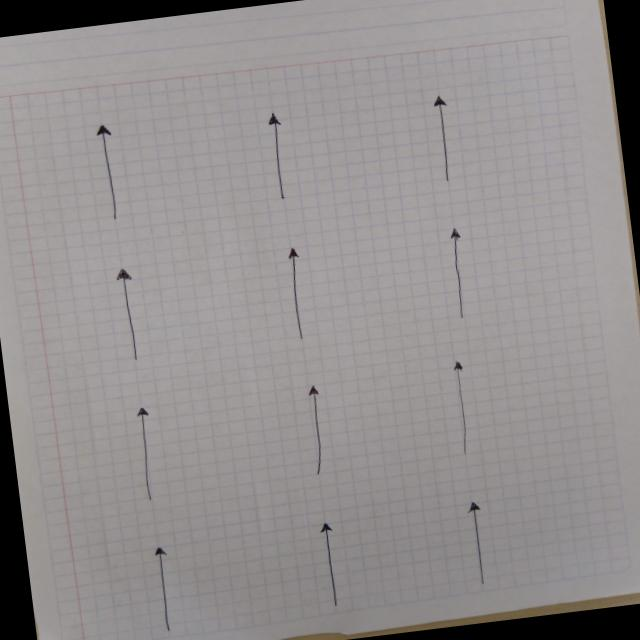arrow_line_up: (109, 266, 160, 375), (88, 121, 132, 227), (124, 406, 164, 508), (313, 520, 356, 614), (425, 92, 465, 187), (459, 500, 502, 586), (301, 383, 336, 482), (280, 245, 314, 345), (452, 360, 484, 460), (261, 105, 292, 201), (444, 223, 470, 323), (150, 544, 178, 634)
